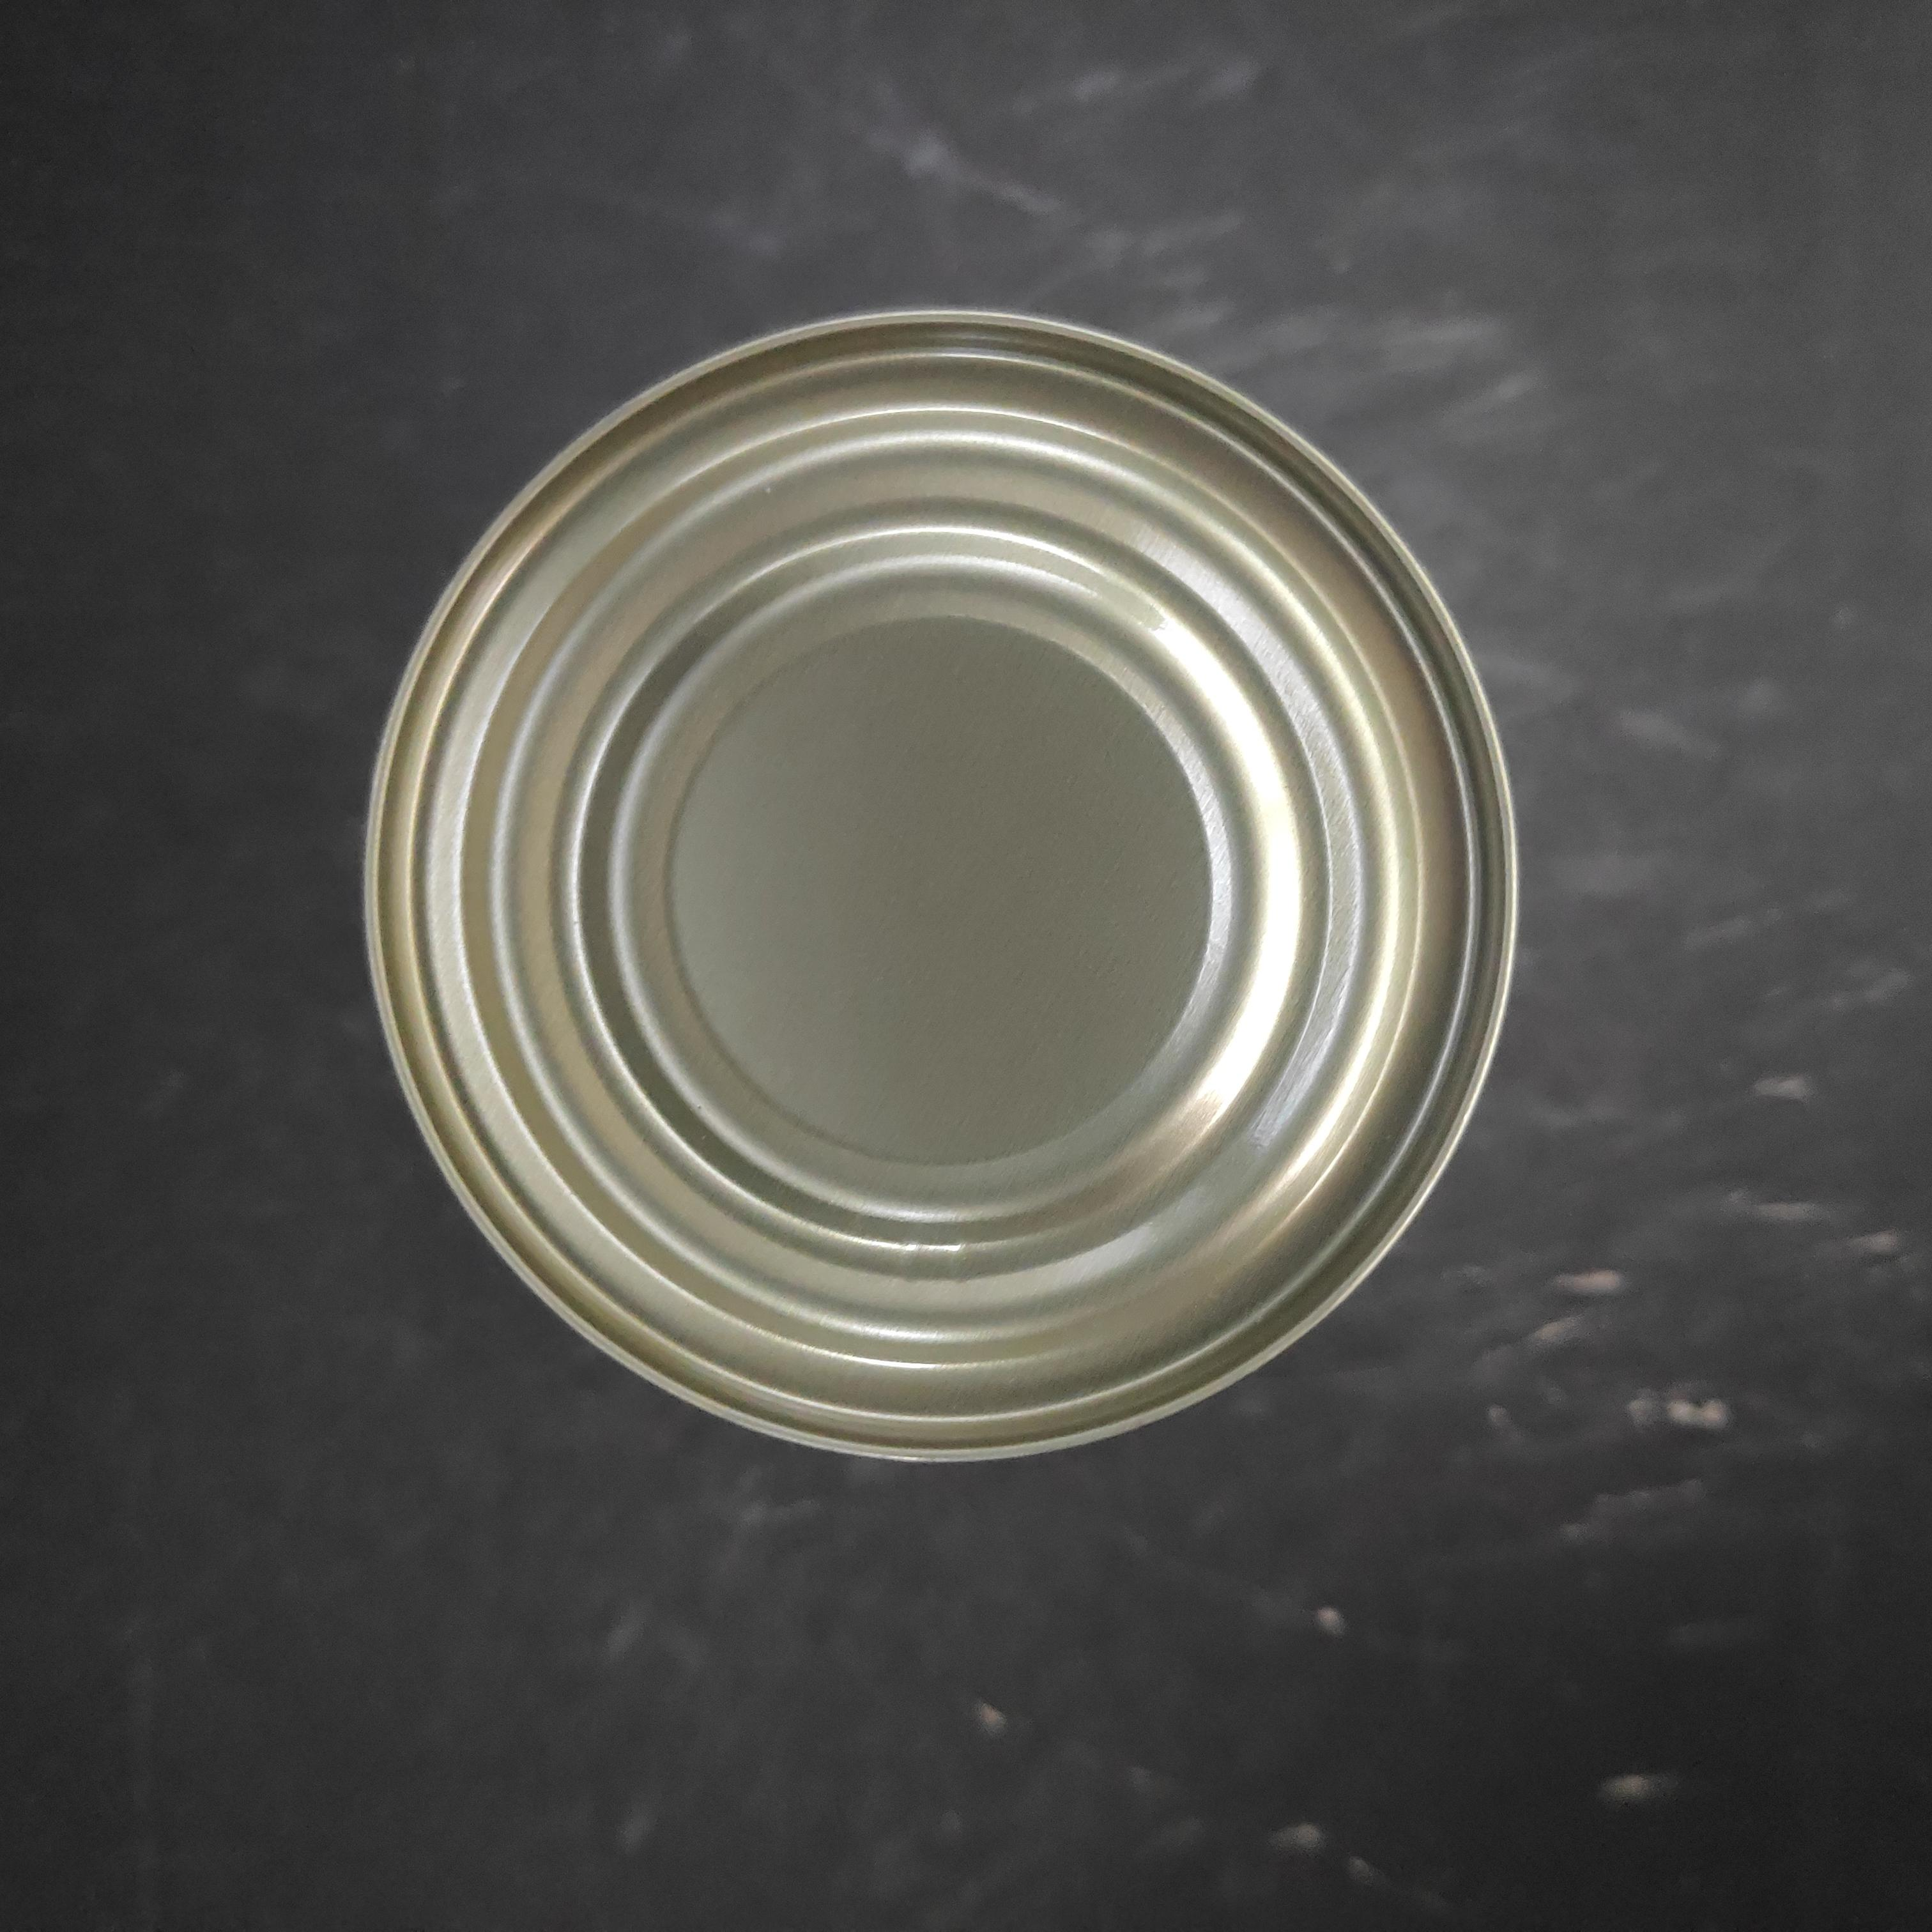No defect: (302, 409, 1469, 1572)
